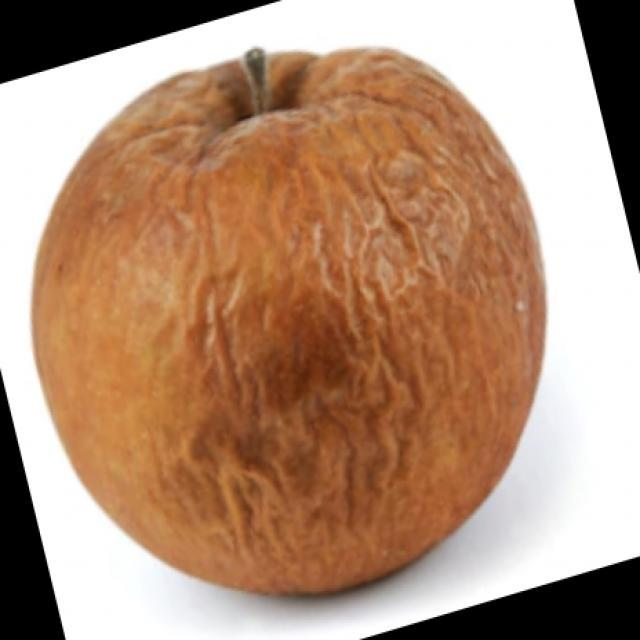Rotten: (22, 56, 545, 594)
